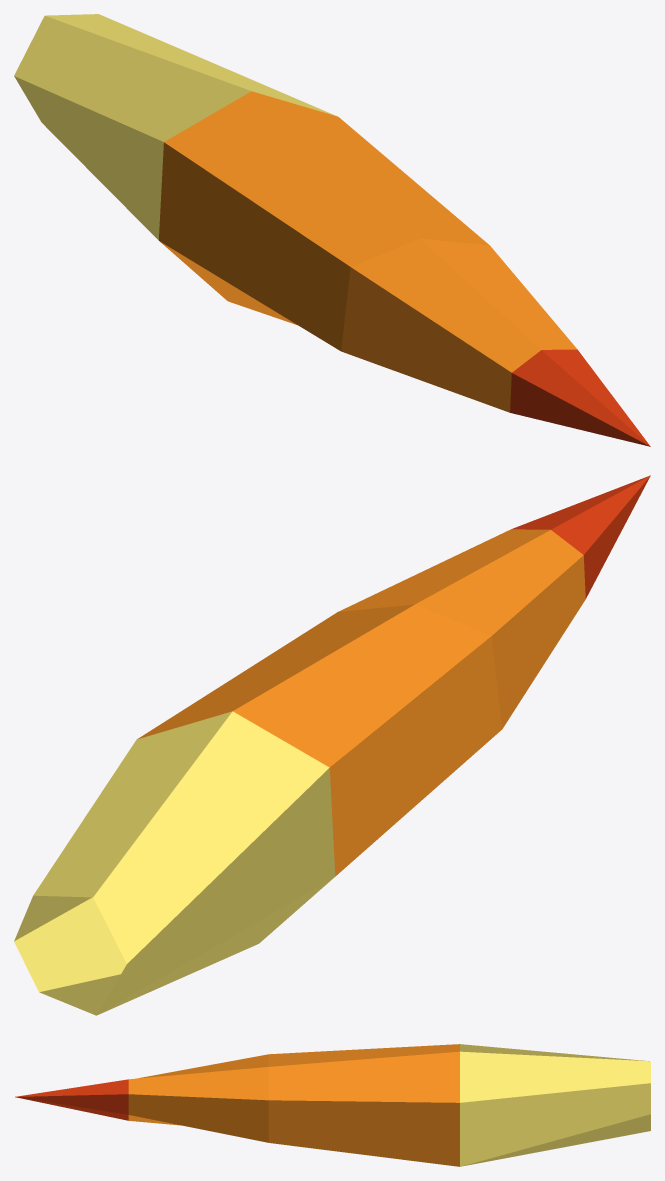
The picture shows the model from 3 angles, top to bottom: view 1: azimuth 30°, elevation 25°; view 2: azimuth 150°, elevation 25°; view 3: azimuth 270°, elevation 25°; orthographic projection. The views are drawn at different scales.
Visible parts, largest first — view 1: t11_g27_p0; view 2: t11_g27_p0; view 3: t11_g27_p0.
Part boxes in pixels (x1,y1,x2,y2): t11_g27_p0: (14,14,650,446); t11_g27_p0: (14,475,650,1015); t11_g27_p0: (15,1044,650,1166).
Bounding box in the file's own units: 1.75 × 1.9 × 9.35.
